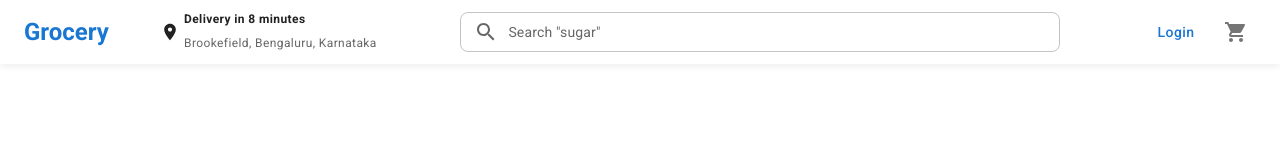
Test case: Header Component › shows search suggestions when typing
This screenshot has width=1280, height=160.
Type "mil" into the field.
click(783, 32); type("mil")  # box [506,12,1060,52]
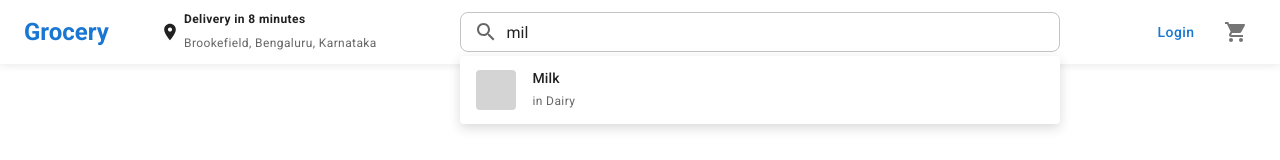
Result: the text "Milk" is shown at [532,70,560,86]
